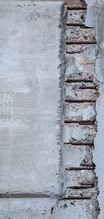Exposed reinforcement: (65, 22, 94, 30), (63, 119, 96, 126), (64, 98, 96, 104), (63, 141, 94, 147), (64, 78, 93, 84), (65, 40, 97, 45), (78, 84, 97, 91), (66, 5, 88, 11), (64, 167, 96, 171), (61, 196, 91, 200), (66, 186, 95, 190), (78, 162, 96, 167), (76, 181, 94, 186), (64, 50, 80, 55)
Spalling: (58, 1, 101, 219)
